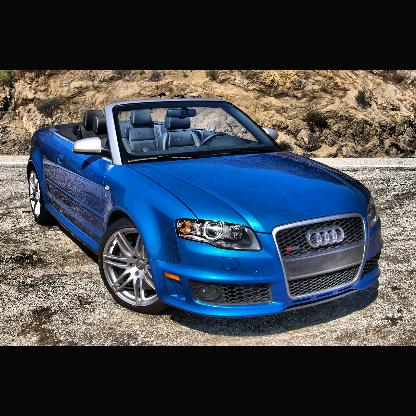Audi RS 4 Convertible 2008: (25, 98, 383, 323)
